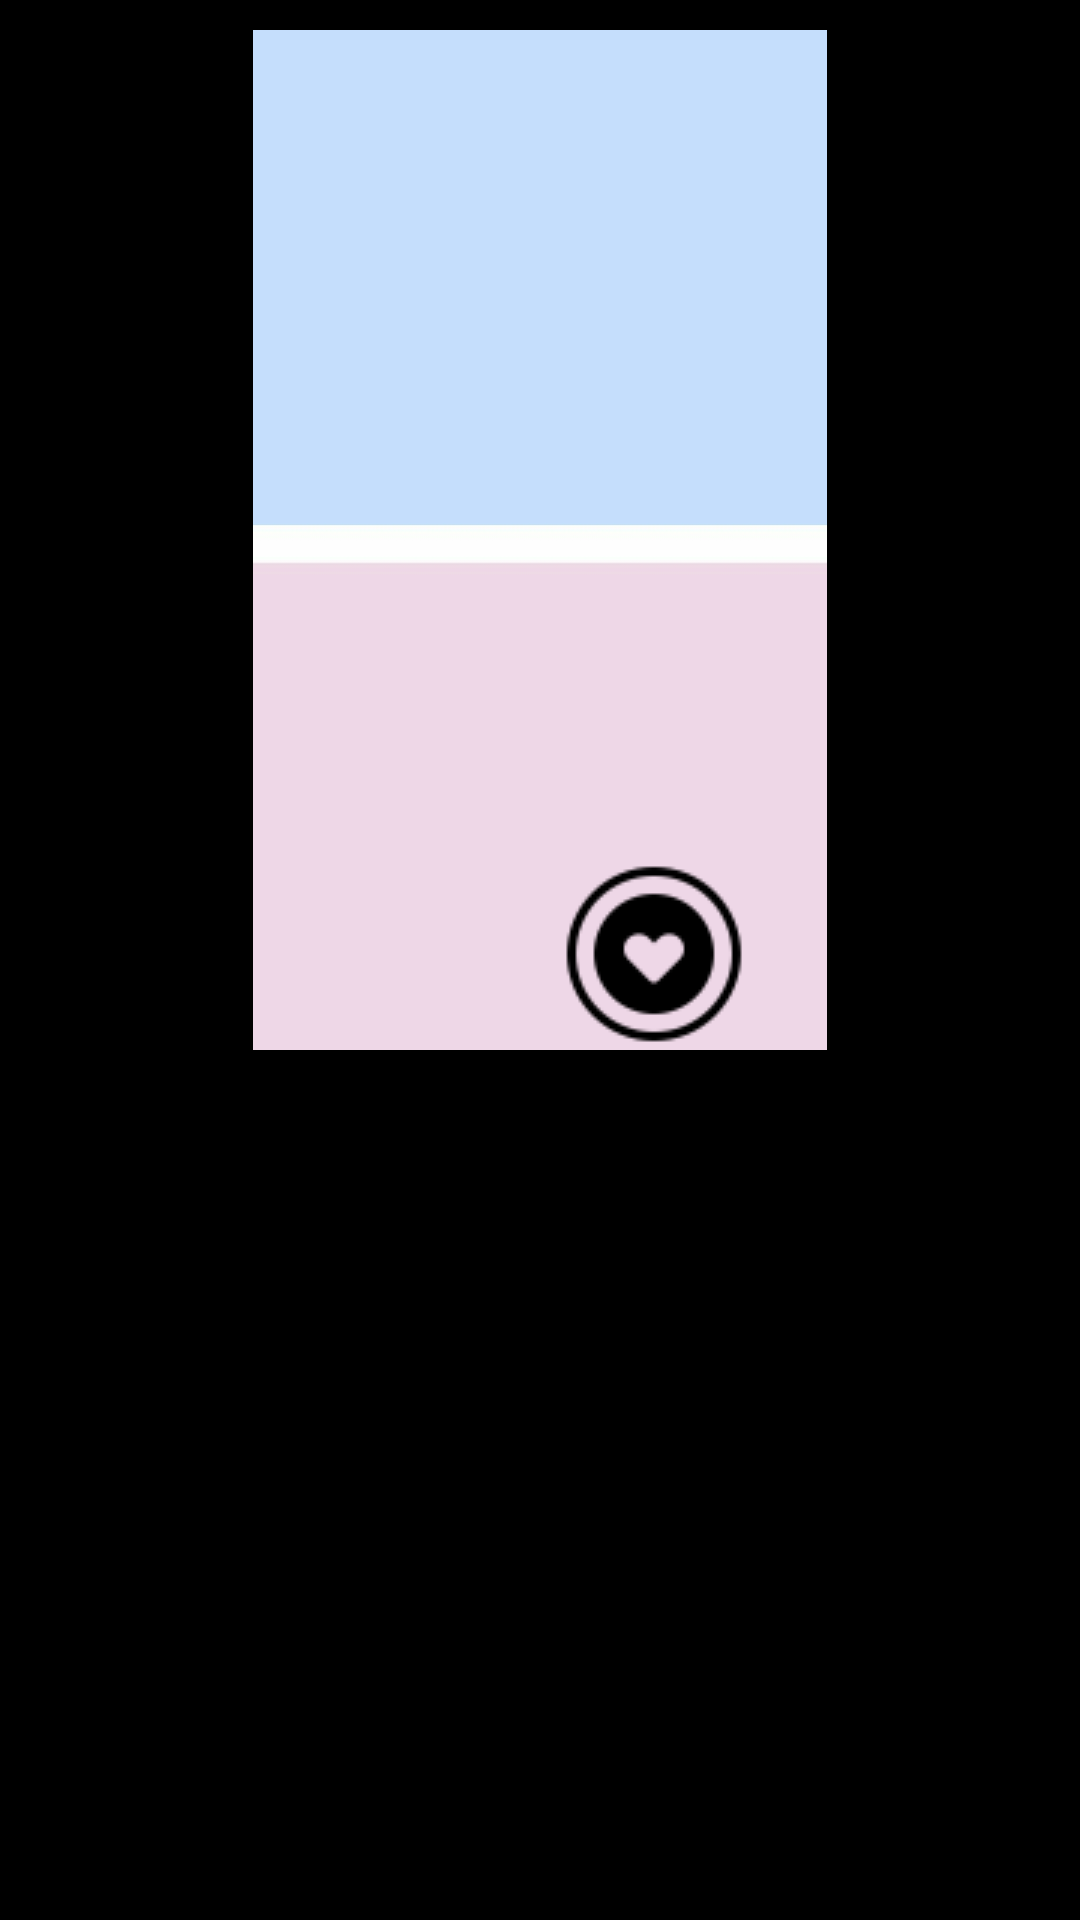

Icon click points for this 1080 × 1920 phone screenshot, format [x,y]:
fav frag: [654,954]
